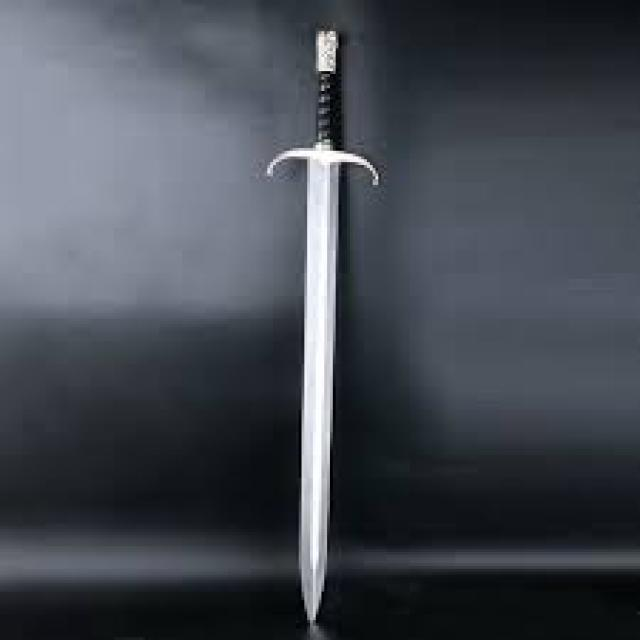long sword: (268, 25, 384, 630)
